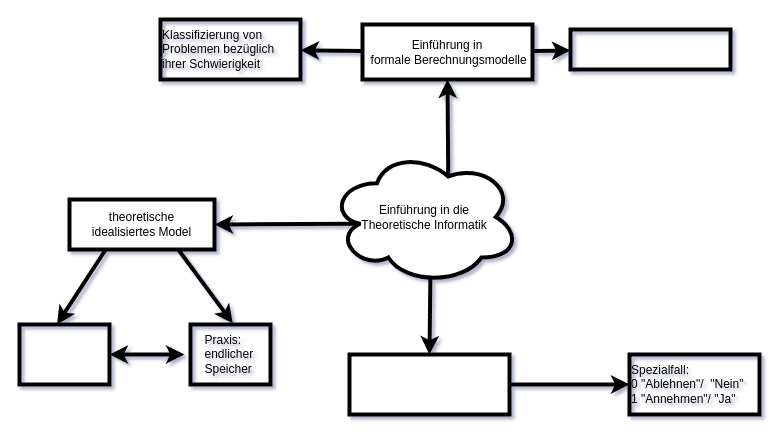
Image size: 784x439. Some labels were removed from this diagram. Here are the shapes that lost their labels. From the top down, the centre of each, then its label:
point 650,49: formale Beschreibung von Computer/ Algorithmen
point 64,354: Theorie: unendlicher speicher
point 429,384: Einschränkung bezüglich Zeit und Sprache
